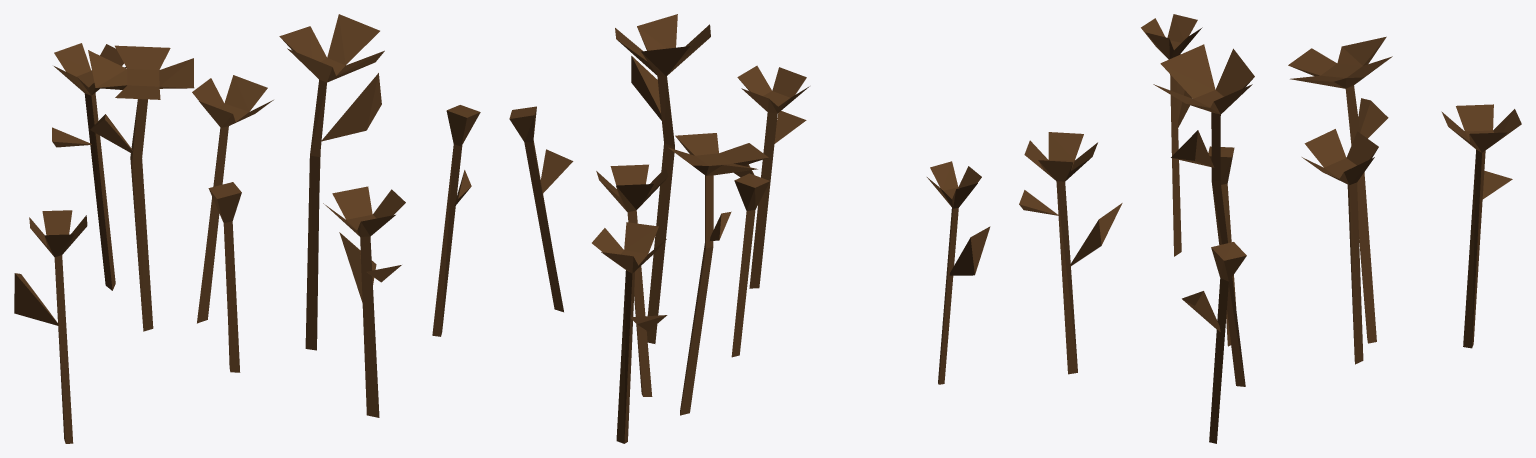
File: SM_Flower_Daisy_Mature_A.fbx
3 renders of one model, left to right at view 1: azimuth 30°, elevation 25°; view 2: azimuth 150°, elevation 25°; view 3: azimuth 270°, elevation 25°, orthographic. The views are drawn at different scales.
Visible parts, largest first — view 1: flower-daisy-mature-a; view 2: flower-daisy-mature-a; view 3: flower-daisy-mature-a.
Boxes of the visible parts, x1,y1,x2,y2 form: flower-daisy-mature-a: (14,14,480,443); flower-daisy-mature-a: (509,14,990,443); flower-daisy-mature-a: (1019,14,1521,443).
Size of the model in its own units: 0.648 by 0.4163 by 0.5858.
